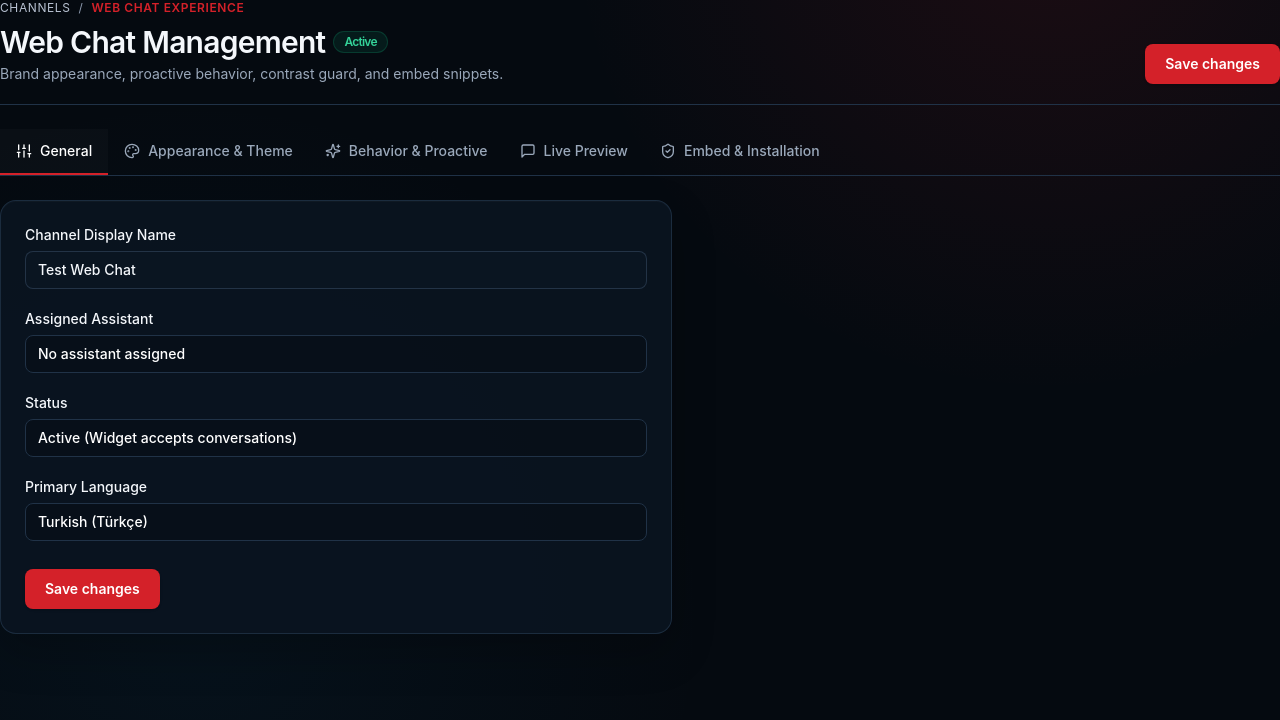
Test: WebChatManagement Component › persists logo thumbnail, Replace/Remove controls, and palette recommendations on page refresh
Click the button "Appearance & Theme" at (208, 152), box [108, 129, 309, 175]
(page scrolled)
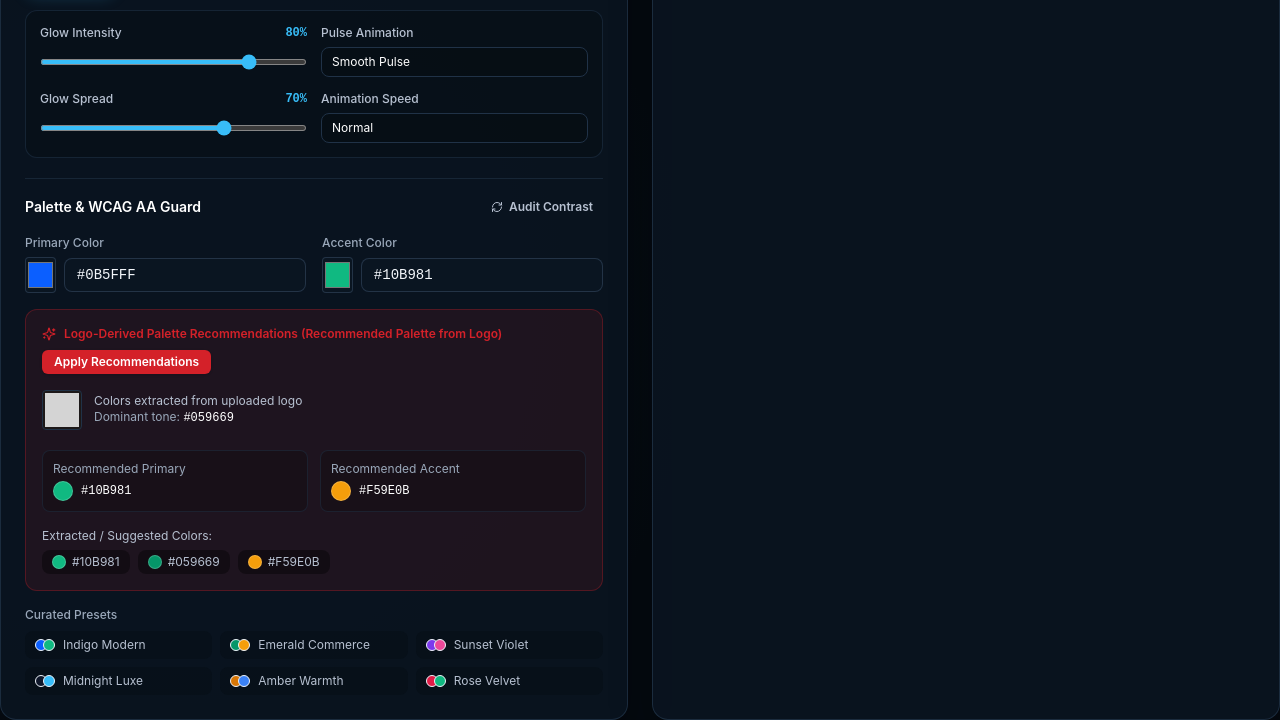
Now the element with test id "logo-palette-recommendations" is shown, box [25, 308, 603, 590]
Now the text "#059669" next to "Dominant tone:" is shown, box [183, 411, 234, 425]
Now the button "Apply Recommendations" is shown, box [42, 350, 211, 374]
